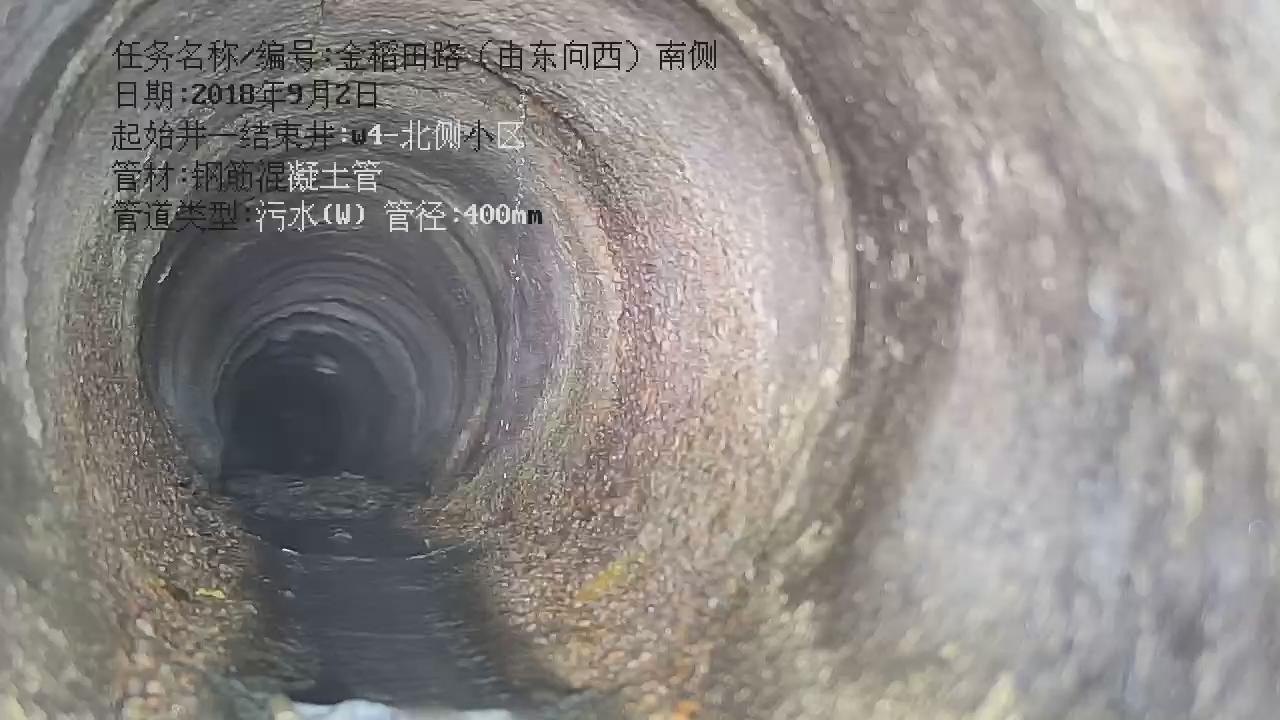SL: (447, 77, 553, 561)
